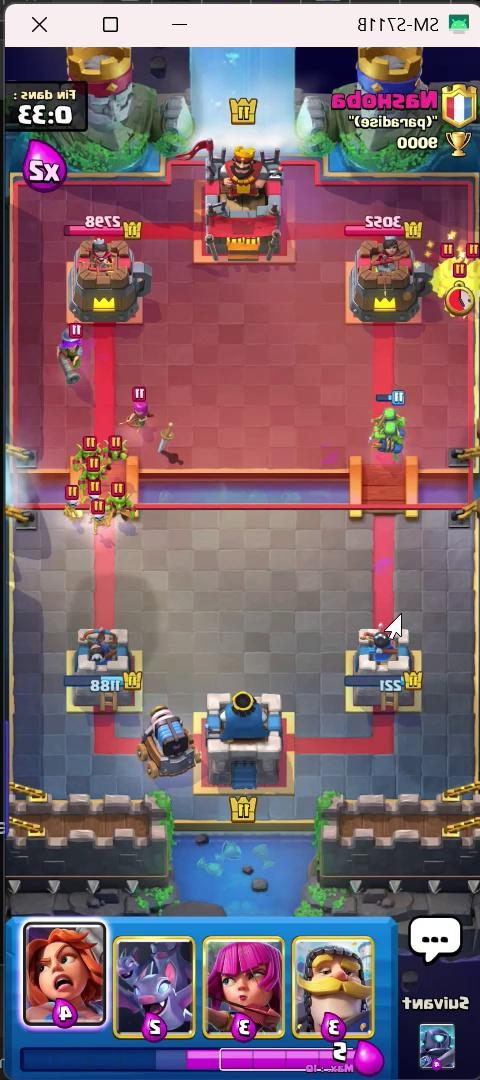archere: (116, 393, 159, 434)
gobelin: (107, 479, 144, 524), (95, 435, 133, 466), (74, 436, 103, 464), (75, 457, 105, 483)
gobelin_lances: (363, 424, 419, 468), (373, 393, 416, 432), (426, 252, 459, 301), (438, 270, 473, 316), (465, 244, 480, 296)
mousquetaire: (50, 326, 90, 390)
squelette: (50, 486, 85, 525), (88, 497, 112, 531), (84, 476, 104, 505)
zappy: (143, 689, 210, 781)
